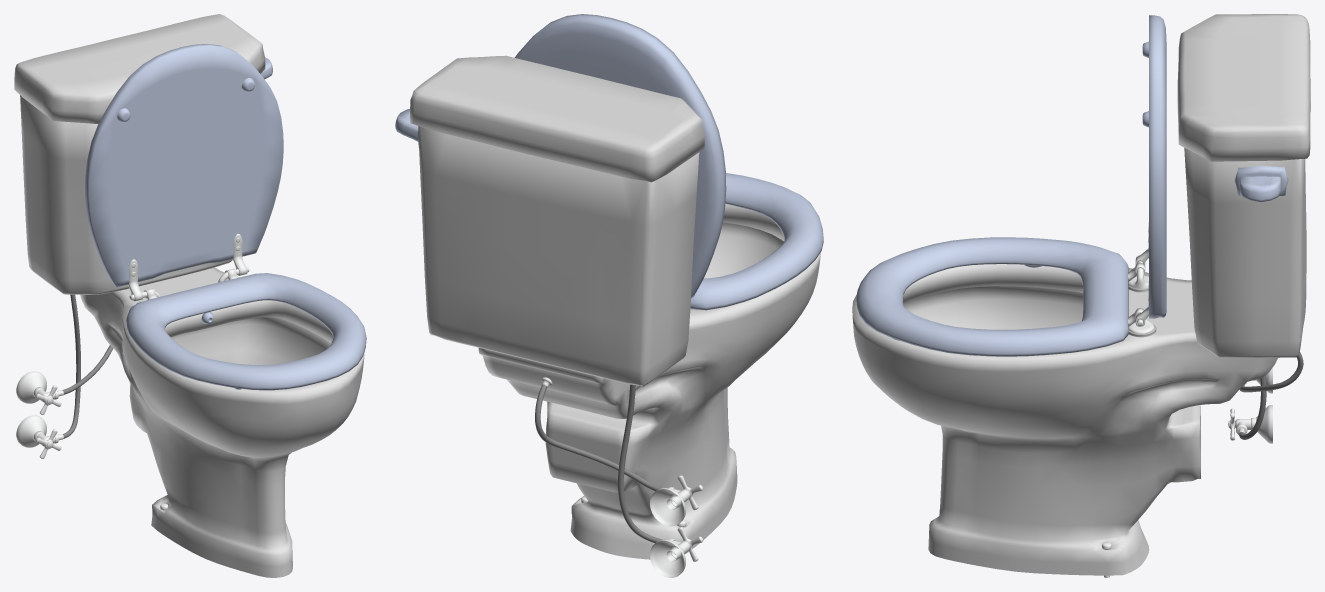
The model's file is toilet-draco.glb.
The picture shows the model from 3 angles, left to right: view 1: azimuth 30°, elevation 25°; view 2: azimuth 150°, elevation 25°; view 3: azimuth 270°, elevation 25°; orthographic projection. The views are drawn at different scales.
Visible parts, largest first — view 1: Object_6, Object_3, Object_2, Object_4; view 2: Object_6, Object_2, Object_3, Object_4; view 3: Object_6, Object_3, Object_2, Object_4.
Part boxes in pixels (bbox=[...]): Object_6: bbox=[14, 14, 364, 577]; Object_3: bbox=[33, 44, 366, 442]; Object_2: bbox=[20, 95, 247, 510]; Object_4: bbox=[35, 267, 309, 446]; Object_6: bbox=[395, 55, 820, 577]; Object_2: bbox=[418, 126, 699, 526]; Object_3: bbox=[514, 14, 823, 558]; Object_4: bbox=[418, 131, 690, 561]; Object_6: bbox=[852, 14, 1310, 575]; Object_3: bbox=[856, 15, 1255, 435]; Object_2: bbox=[1102, 148, 1306, 577]; Object_4: bbox=[892, 165, 1303, 439].
Bounding box in the file's own units: 0.6087 × 1.08 × 0.8497.
Materials: 1 (1 with a texture image).
